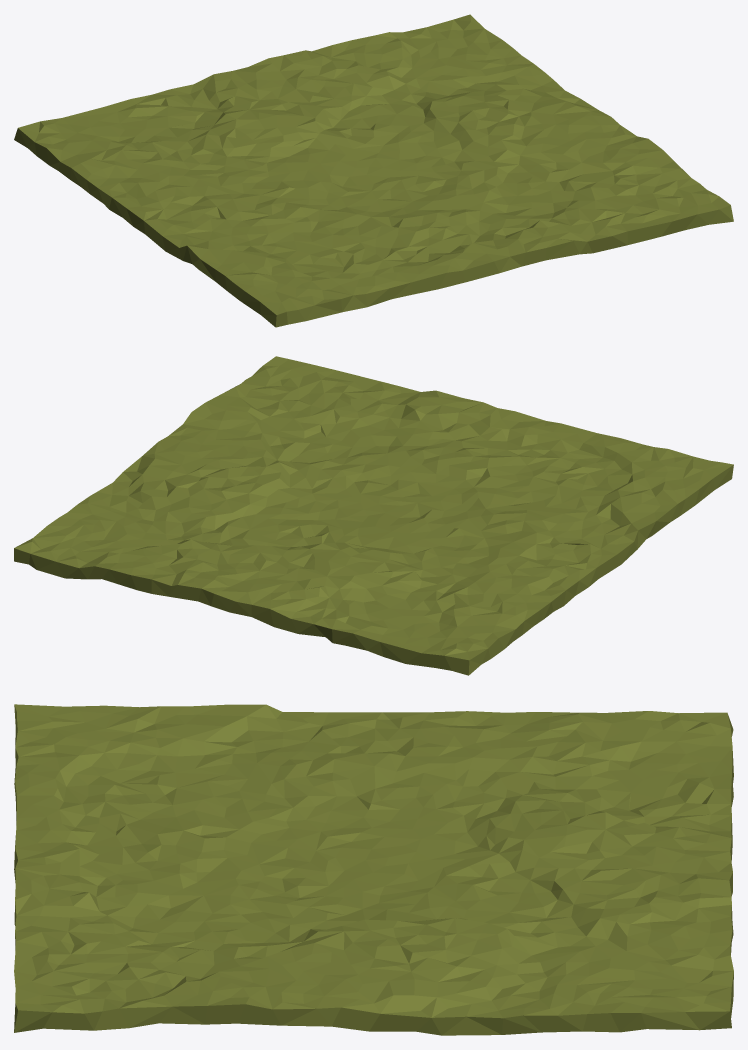
File: Tarrain.fbx
The picture shows the model from 3 angles, top to bottom: view 1: azimuth 30°, elevation 25°; view 2: azimuth 150°, elevation 25°; view 3: azimuth 270°, elevation 25°; orthographic projection. The views are drawn at different scales.
Visible parts, largest first — view 1: Terrain; view 2: Terrain; view 3: Terrain.
Part boxes in pixels (x1,y1,x2,y2): Terrain: (14, 14, 733, 327); Terrain: (14, 356, 733, 675); Terrain: (14, 704, 733, 1035).
Size of the model in its own units: 80.25 by 4.4 by 80.22.
